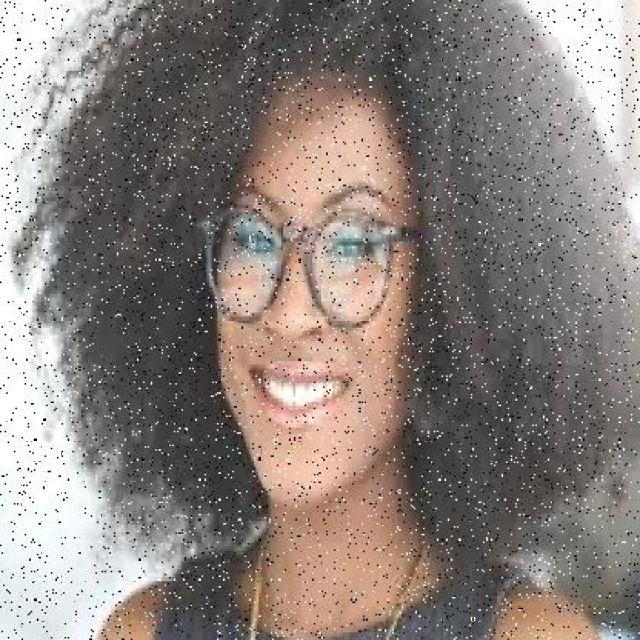glasses: (198, 195, 399, 330)
